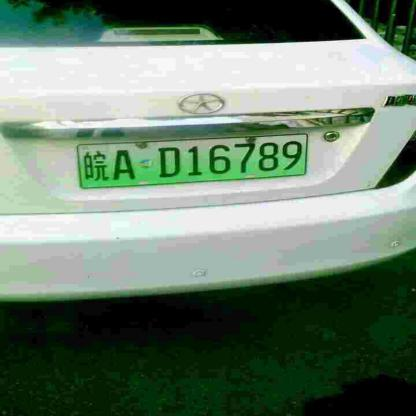lp: (77, 134, 306, 188)
